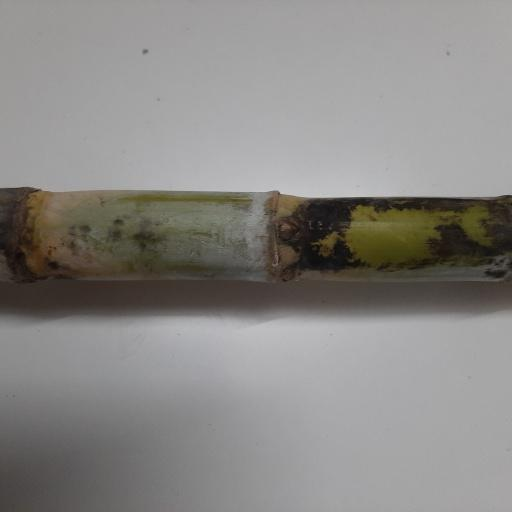Bud: (276, 216, 299, 239)
